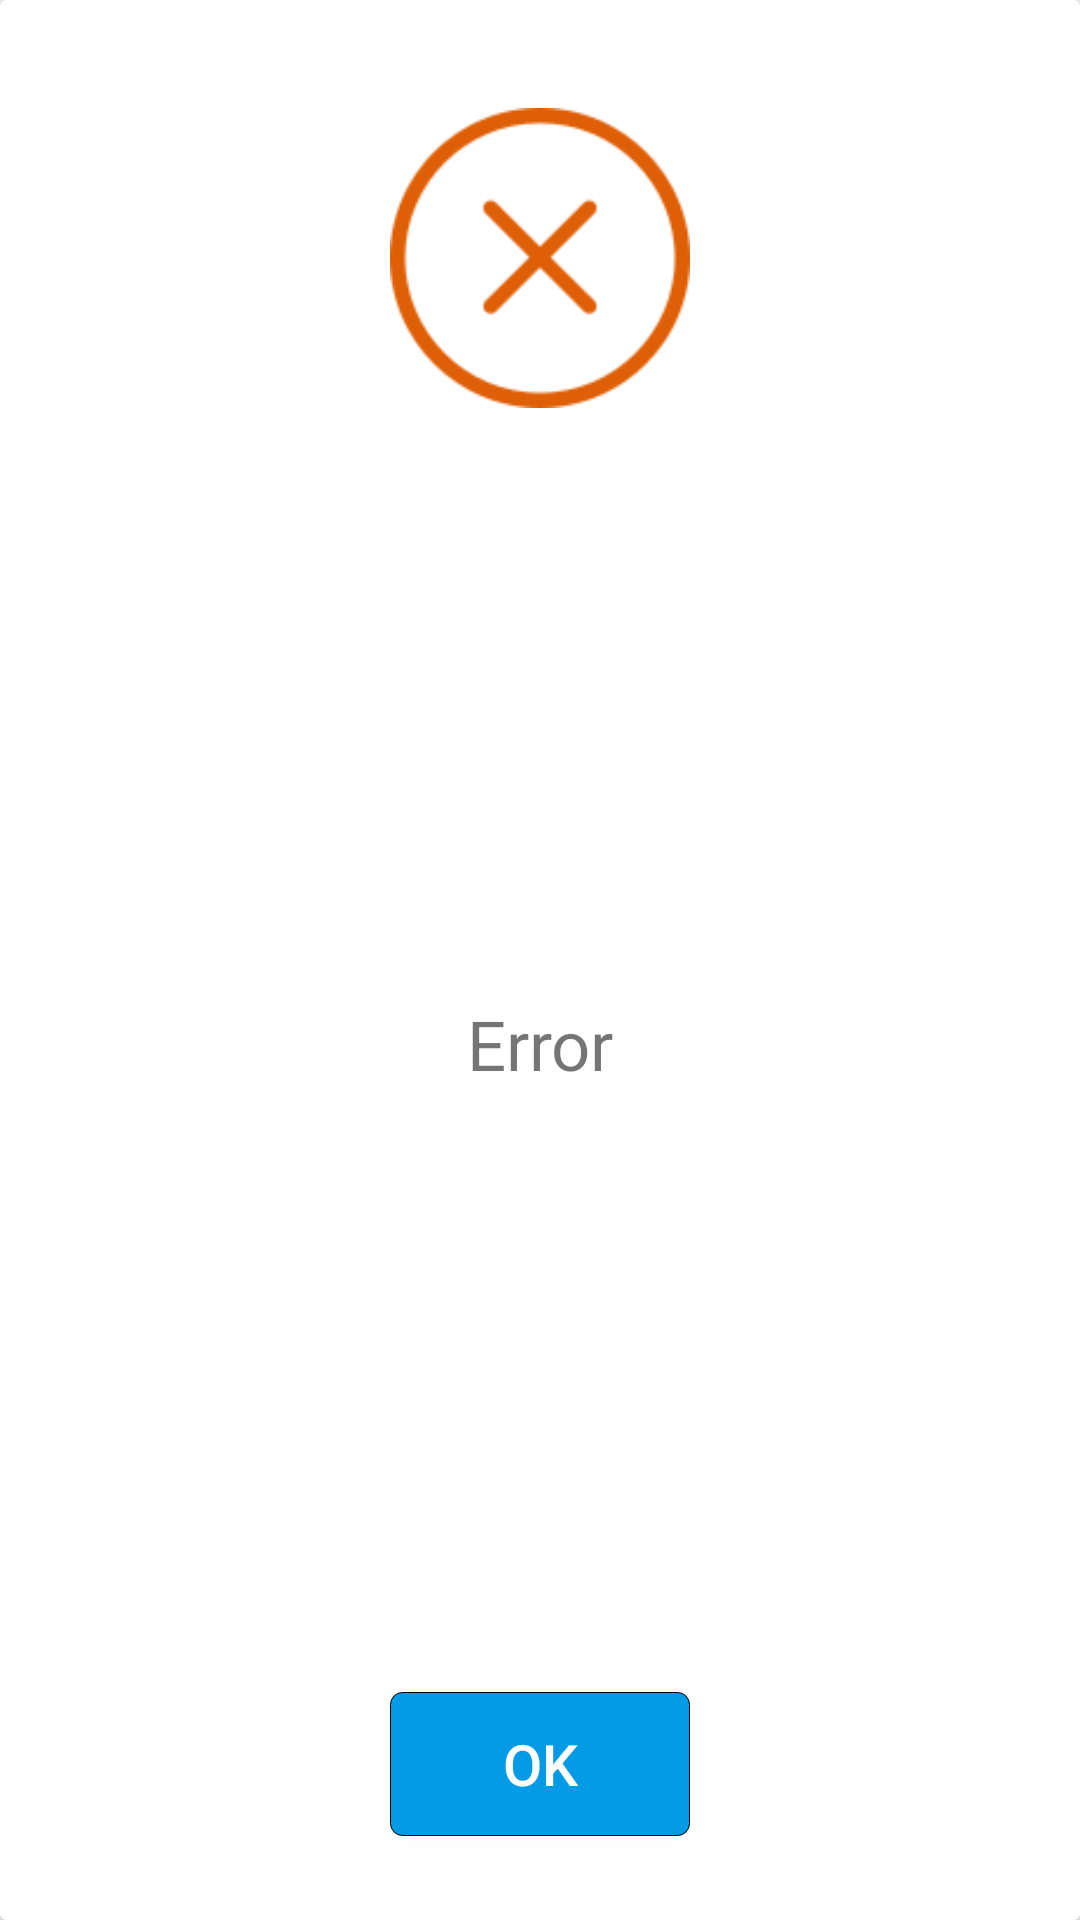

Icon click points for this 1080px×1920px phone screenshot, format (x=x, y=y):
error: (x=540, y=258)
